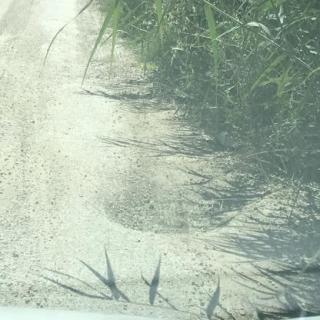pothole: (108, 188, 220, 233)
